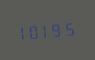five: (66, 18, 77, 37)
nine: (54, 19, 65, 38)
one: (18, 22, 29, 41), (42, 20, 53, 39)
zero: (30, 21, 41, 40)
